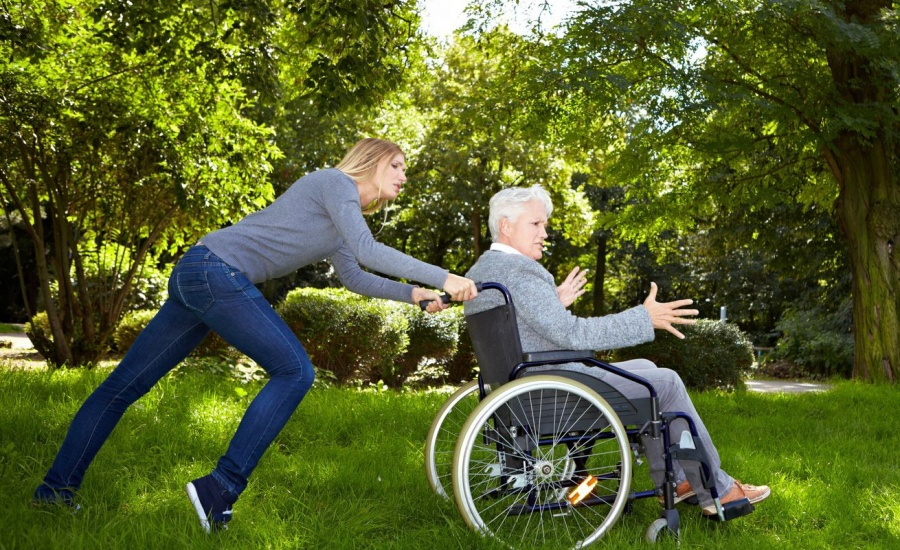person: (41, 126, 432, 521), (468, 176, 707, 352)
wheelchair: (437, 301, 718, 550)
